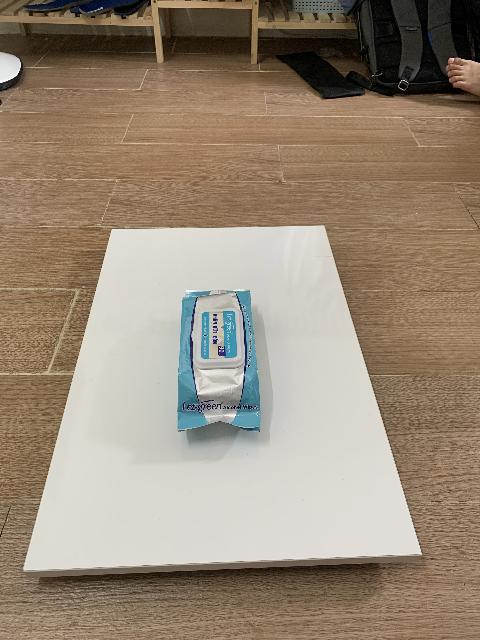Let-green_alcohol_wipes: (177, 290, 261, 433)
